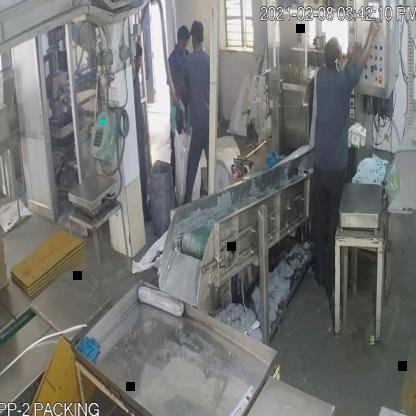no_glove: (348, 15, 383, 86)
